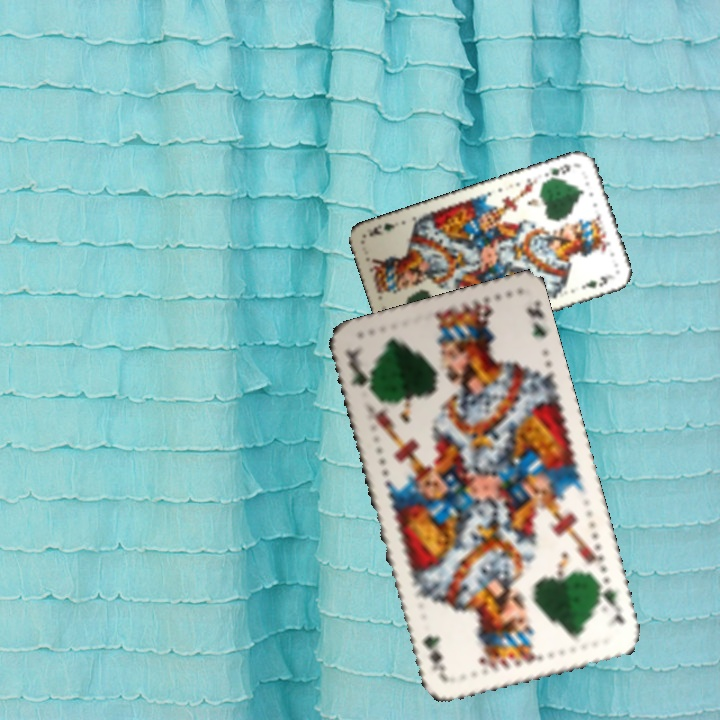GK: (591, 577, 628, 627), (341, 345, 374, 398), (543, 159, 574, 184)
